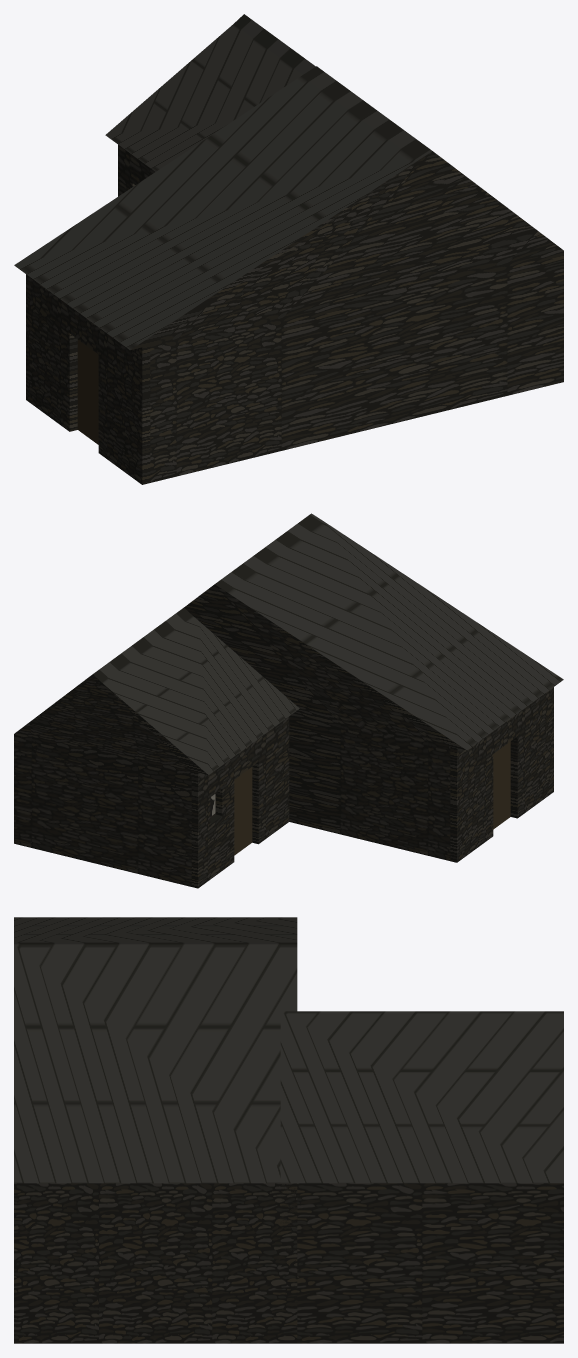
The model's file is casa1.fbx.
The picture shows the model from 3 angles, top to bottom: view 1: azimuth 30°, elevation 25°; view 2: azimuth 150°, elevation 25°; view 3: azimuth 270°, elevation 25°; orthographic projection. The views are drawn at different scales.
Parts seen in each view (by area): view 1: pasted__pCube1, pasted__pCube1_3, pCube1_2, pasted__pCube1_2, pCube1; view 2: pasted__pCube1, pCube1, pasted__pCube1_3, pCube1_2, pCube1_3, pasted__pCube1_2; view 3: pasted__pCube1_3, pCube1_2, pasted__pCube1, pCube1.
Part boxes in pixels (left/top/right/bottom): pasted__pCube1: left=26, top=151, right=563, bottom=484; pasted__pCube1_3: left=14, top=66, right=432, bottom=349; pCube1_2: left=105, top=14, right=315, bottom=171; pasted__pCube1_2: left=77, top=339, right=98, bottom=444; pCube1: left=118, top=145, right=154, bottom=196; pasted__pCube1: left=184, top=584, right=553, bottom=862; pCube1: left=14, top=674, right=289, bottom=888; pasted__pCube1_3: left=215, top=513, right=563, bottom=750; pCube1_2: left=93, top=607, right=299, bottom=774; pCube1_3: left=234, top=767, right=252, bottom=855; pasted__pCube1_2: left=493, top=741, right=510, bottom=829; pasted__pCube1_3: left=14, top=917, right=297, bottom=1183; pCube1_2: left=280, top=1011, right=563, bottom=1183; pasted__pCube1: left=14, top=1183, right=297, bottom=1343; pCube1: left=280, top=1183, right=563, bottom=1343.
Size of the model in its own units: 4.98 by 2.89 by 4.48.
Materials: 6 (6 with a texture image).
